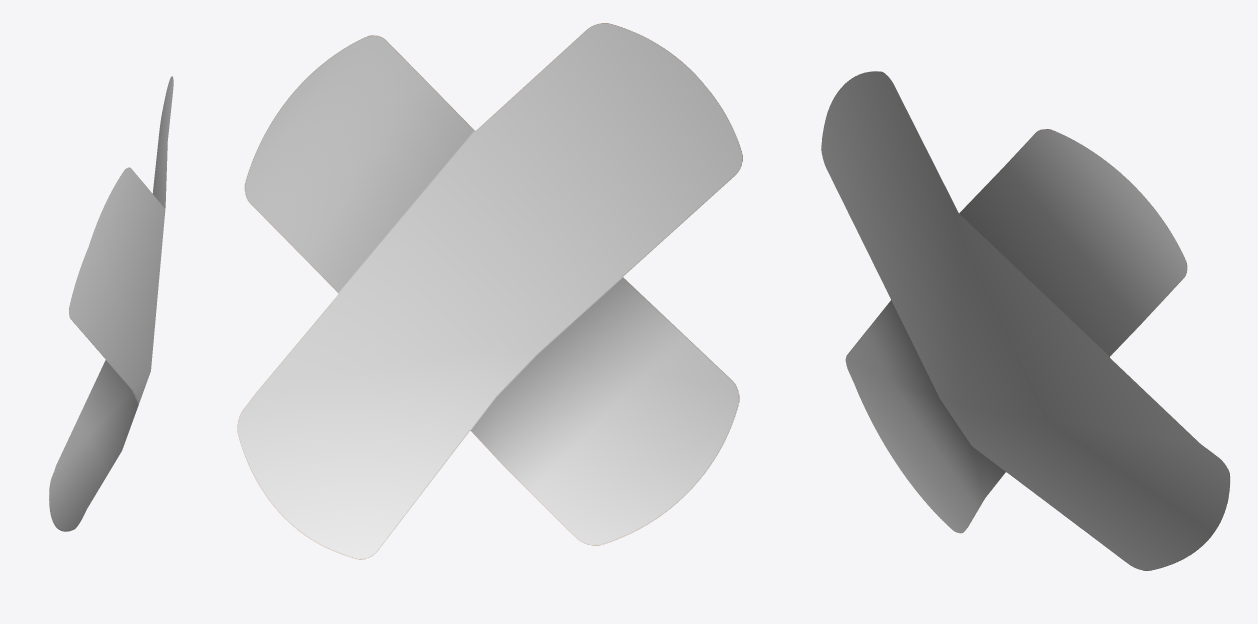
File: Bandage.fbx
3 renders of one model, left to right at view 1: azimuth 30°, elevation 25°; view 2: azimuth 150°, elevation 25°; view 3: azimuth 270°, elevation 25°, orthographic. The views are drawn at different scales.
Visible parts, largest first — view 1: Bandage; view 2: Bandage; view 3: Bandage.
Part boxes in pixels (<box>): Bandage: <box>49,76,173,531</box>; Bandage: <box>237,23,742,559</box>; Bandage: <box>821,71,1230,570</box>.
Bounding box in the file's own units: 7.54 × 10.31 × 7.81.
